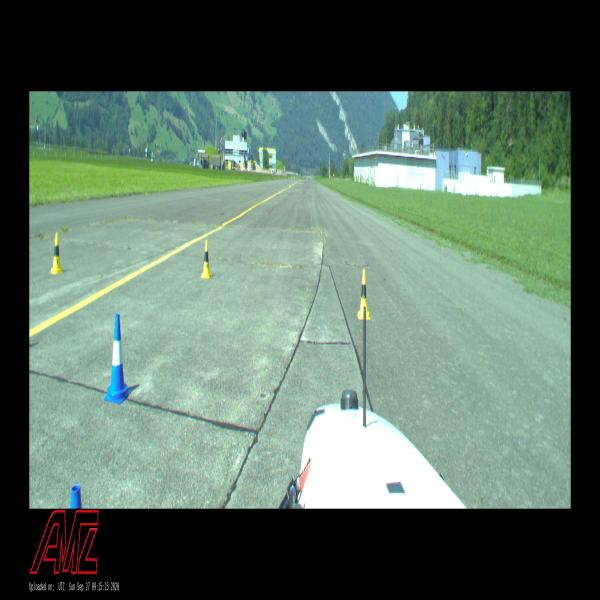blue_cone: (104, 313, 131, 404)
yellow_cone: (357, 268, 371, 320), (200, 240, 212, 278), (51, 234, 62, 274)
